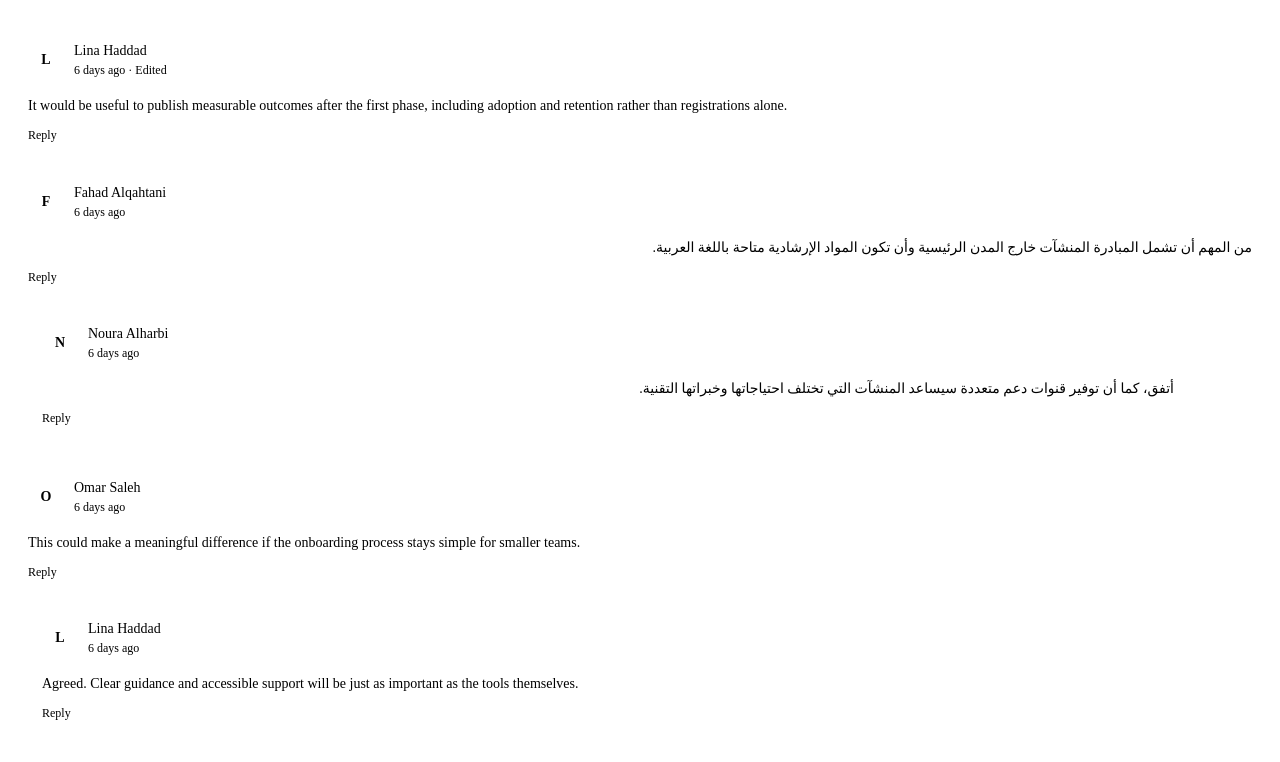
Scenario: <Discussion> replies to replies (J-3) › answers a nested reply in the same thread, addressed to its author
(page scrolled)
Click the button with aria-label "Reply to Lina Haddad": point(56, 713) [38,701,75,725]
(page scrolled)
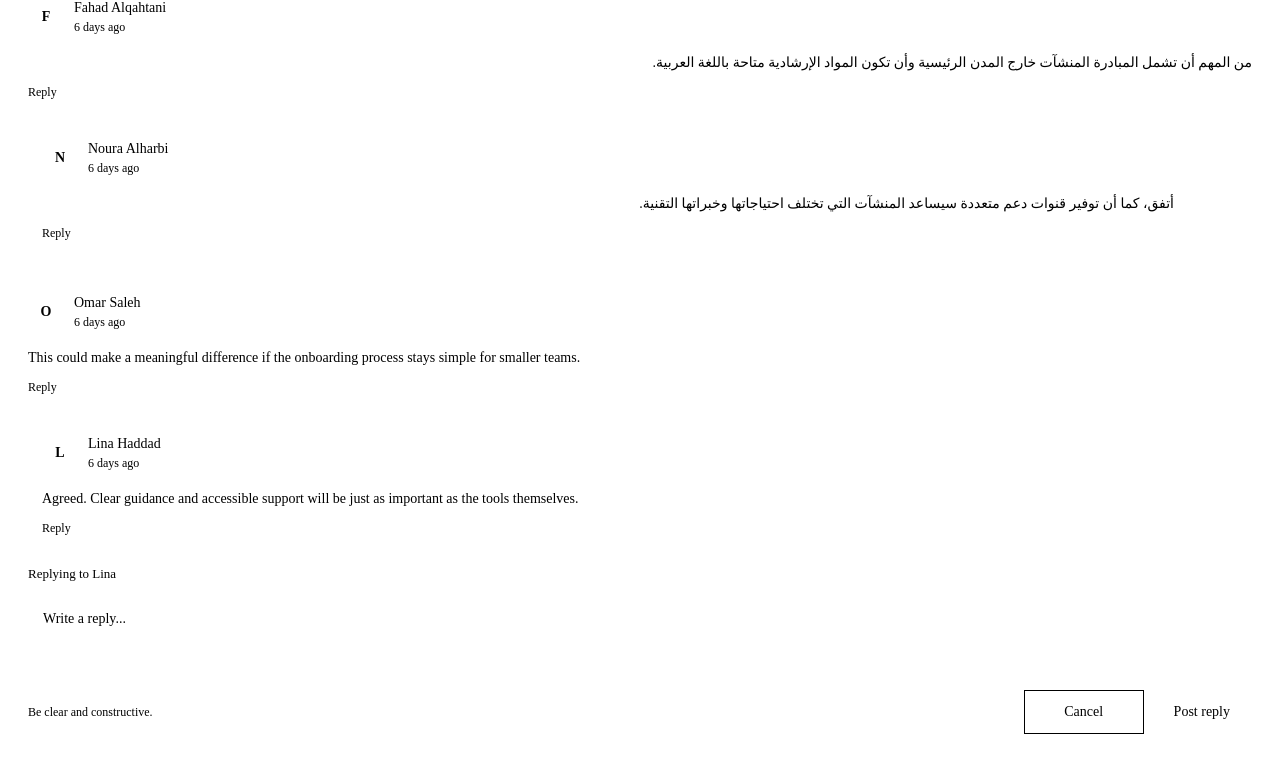
In the text box labelled "Replying to Lina": point(640, 637) [28,595,1252,679], type "Following up"
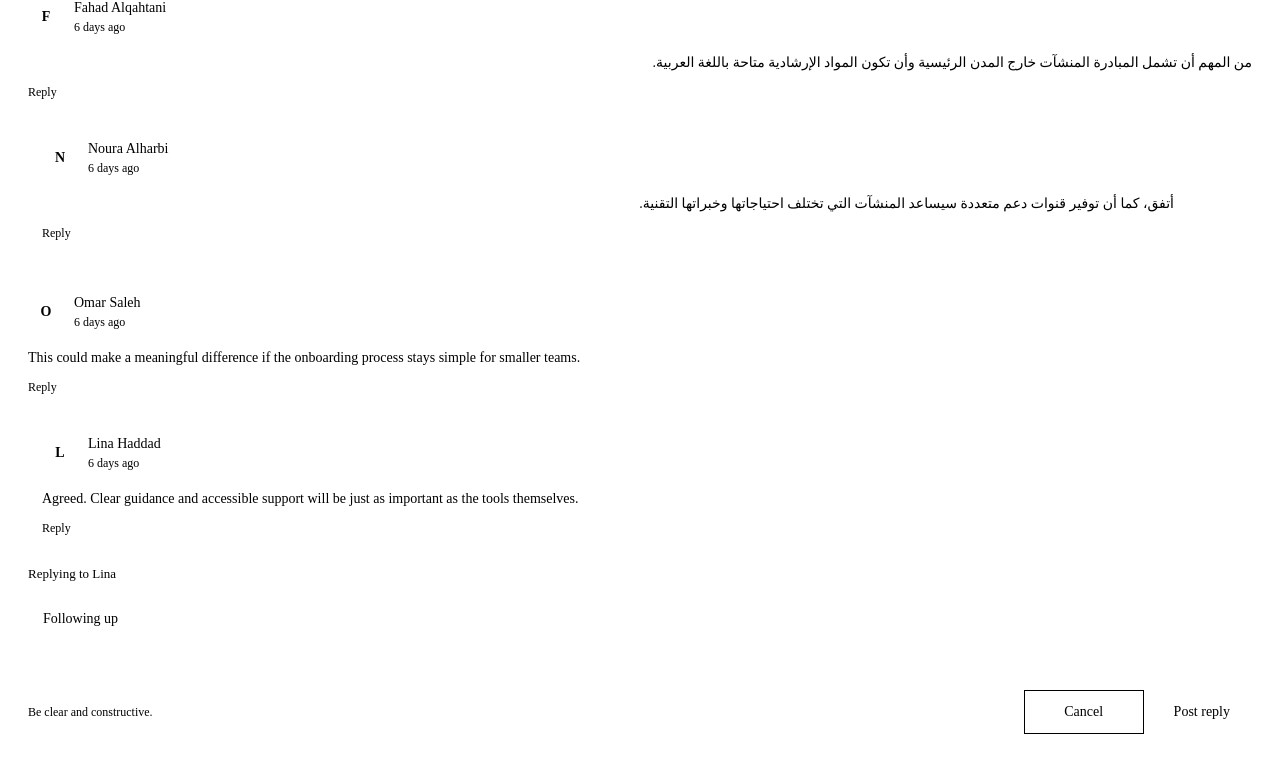
Click the button "Post reply": point(1202, 712) [1152,690,1252,734]
(page scrolled)
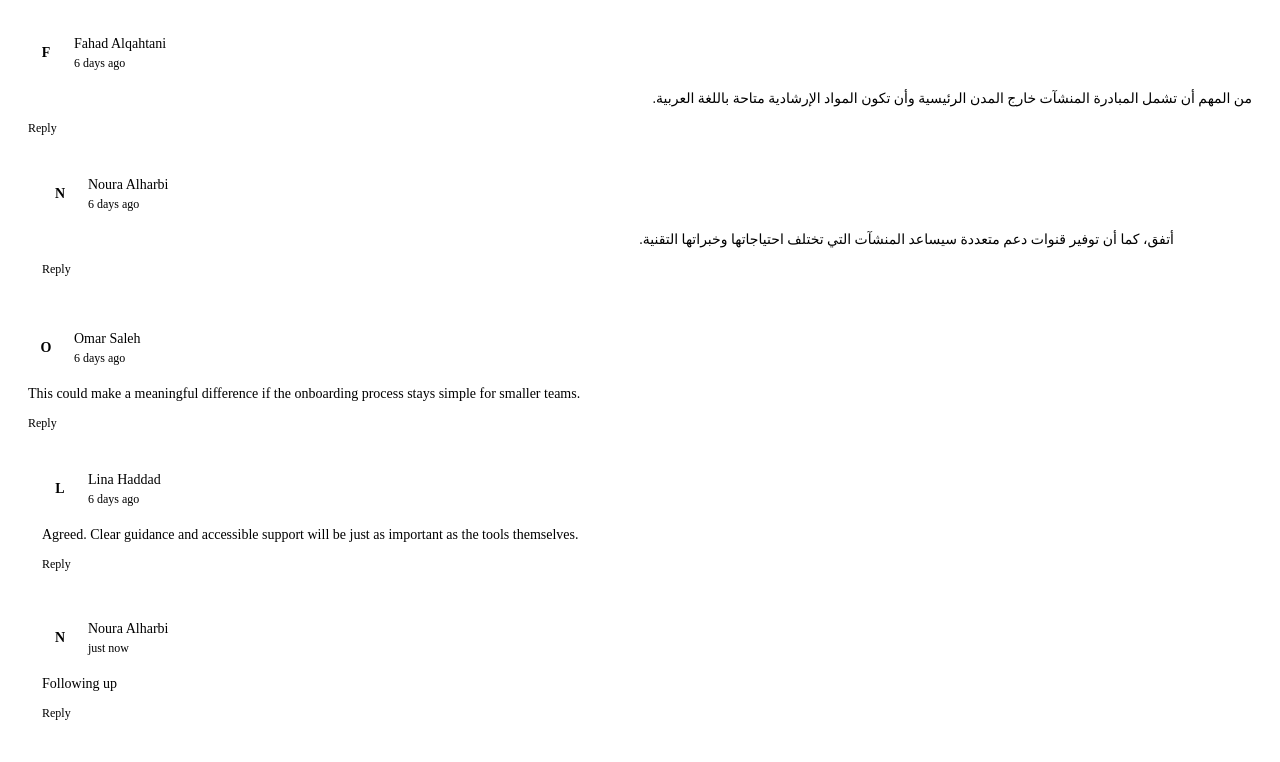
Now the element showing "N Noura Alharbi just now Following up Reply" is shown, box [38,620,200,725]
